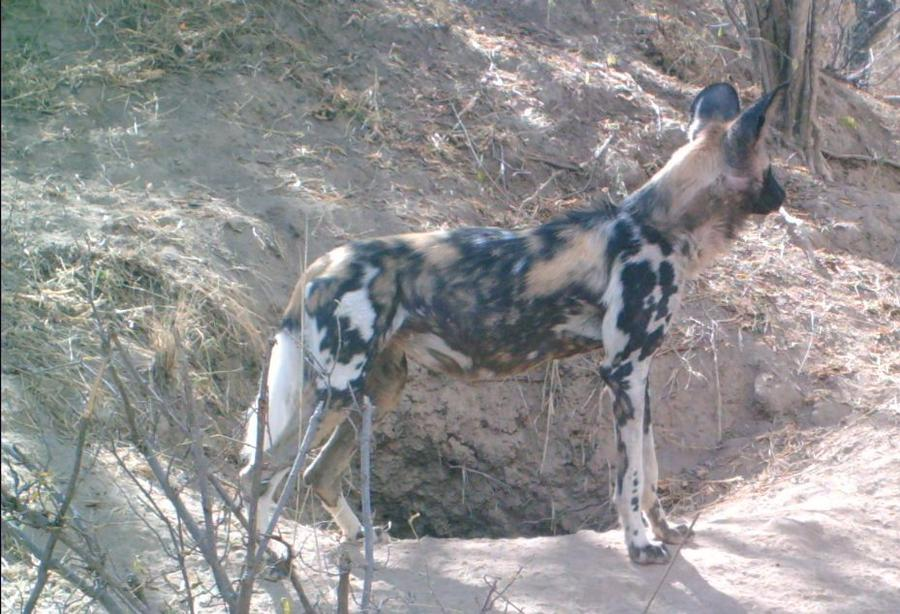wilddog: (1, 1, 900, 614)
